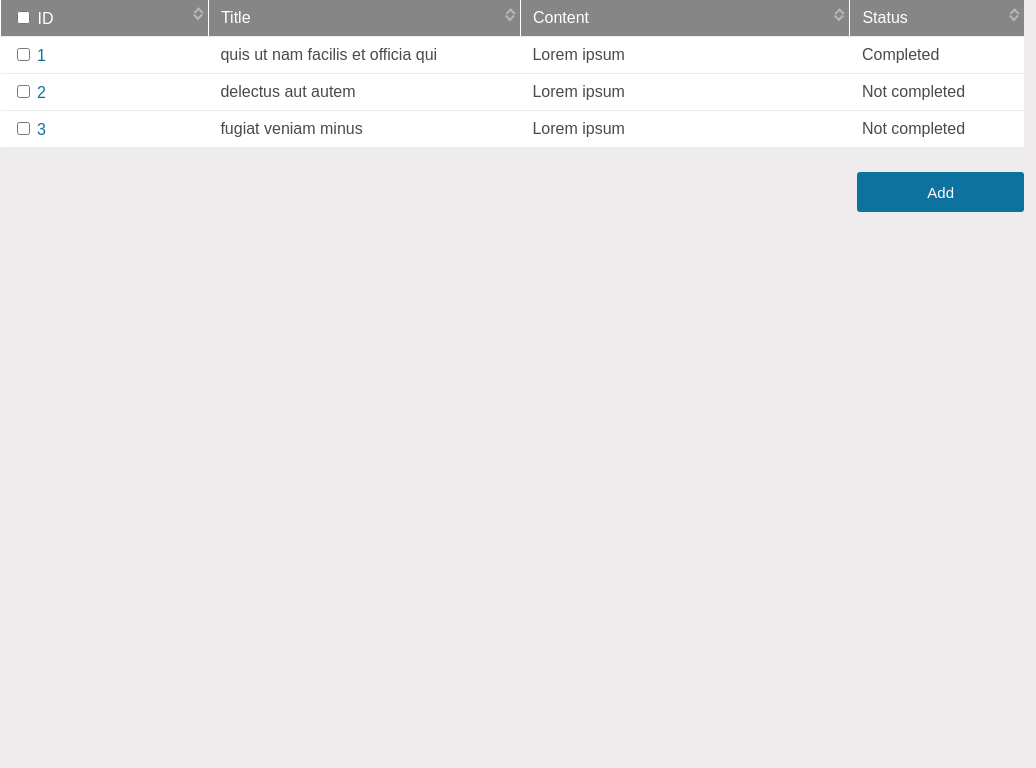
Test case: Notes.vue › opens the delete notes dialog after clicking at least one checkbox
This screenshot has width=1036, height=768.
Click the checkbox in the row of "quis ut nam facilis et officia qui" at (23,54), box [16, 48, 30, 61]
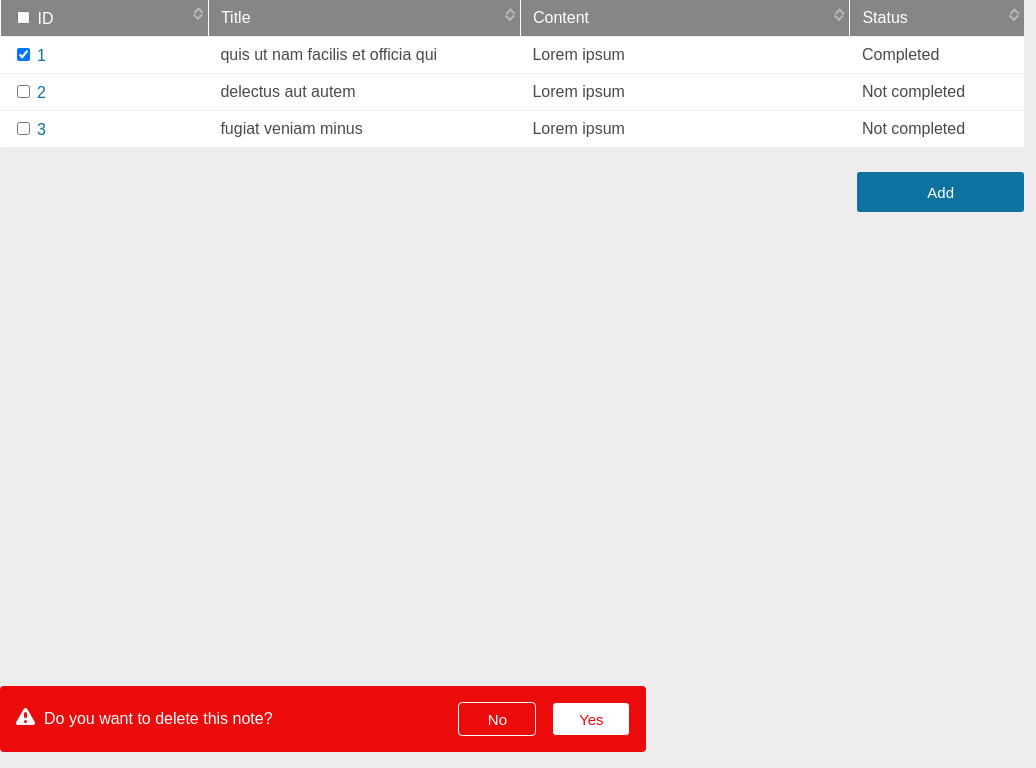
expect the element showing "Do you want to delete this note? No Yes" is shown: met, box [0, 686, 646, 752]
